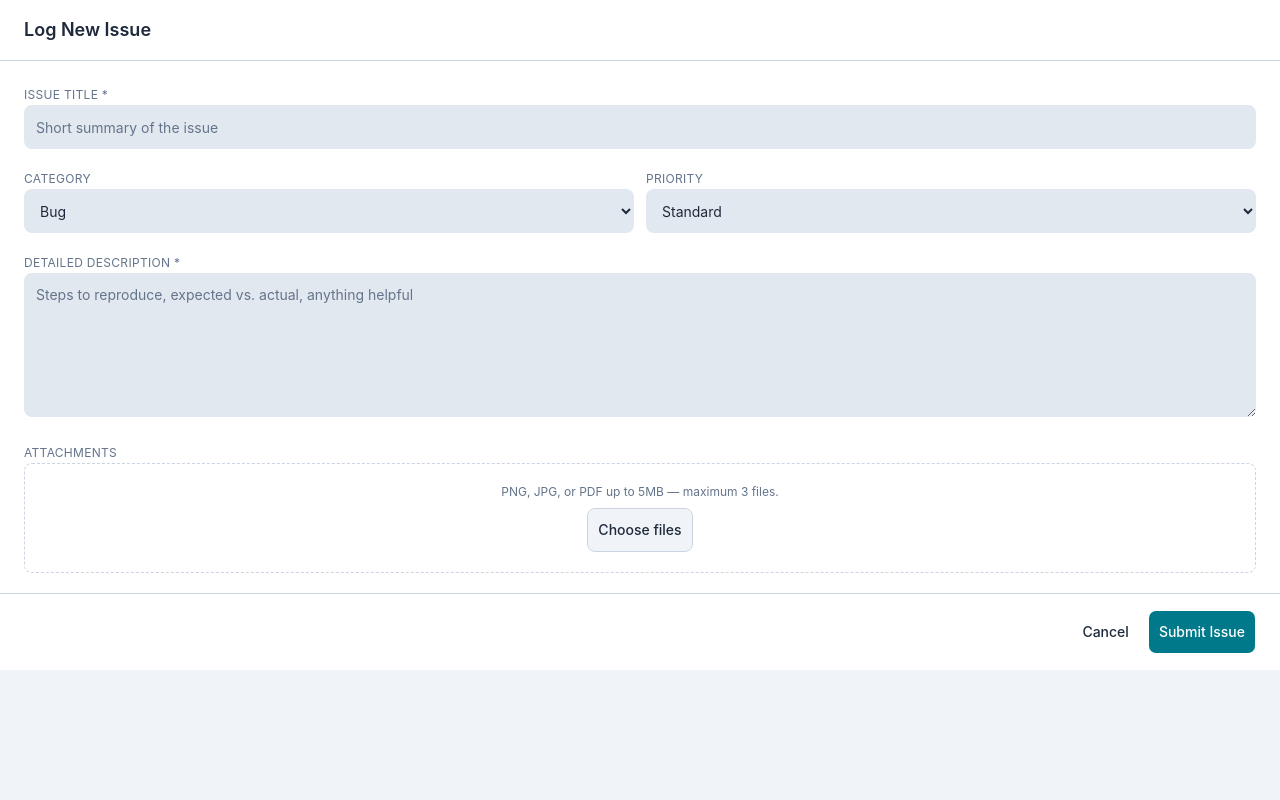
NewTicketForm › surfaces the server error from createTicket and does not reset the form
In the field with placeholder "Short summary of the issue": (640, 127) [24,105,1256,149], type "Cannot save a new lead"
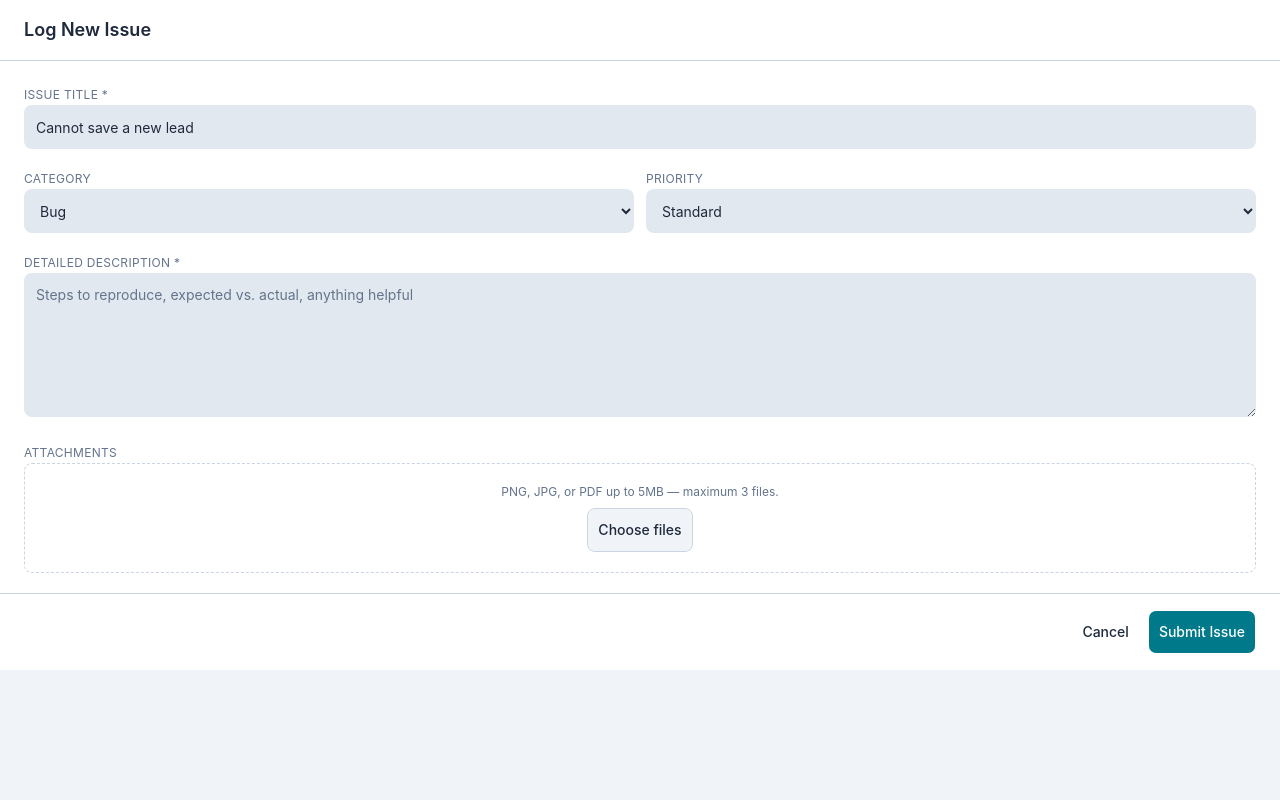
In the text box with placeholder "Steps to reproduce, expected vs. actual, anything helpful": (640, 345) [24,273,1256,417], type "Clicking Save Lead throws a 500."
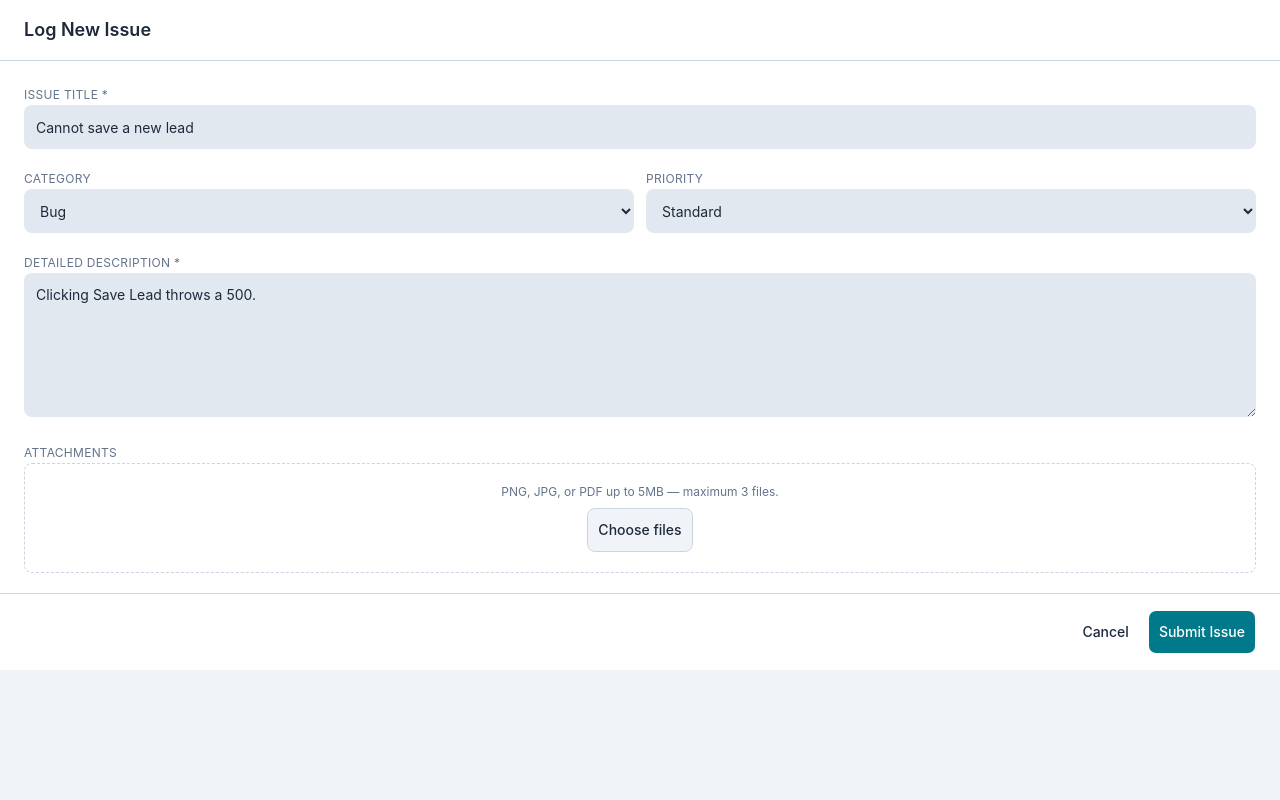
Click the button "Submit Issue": (1202, 632) [1148,610,1256,654]
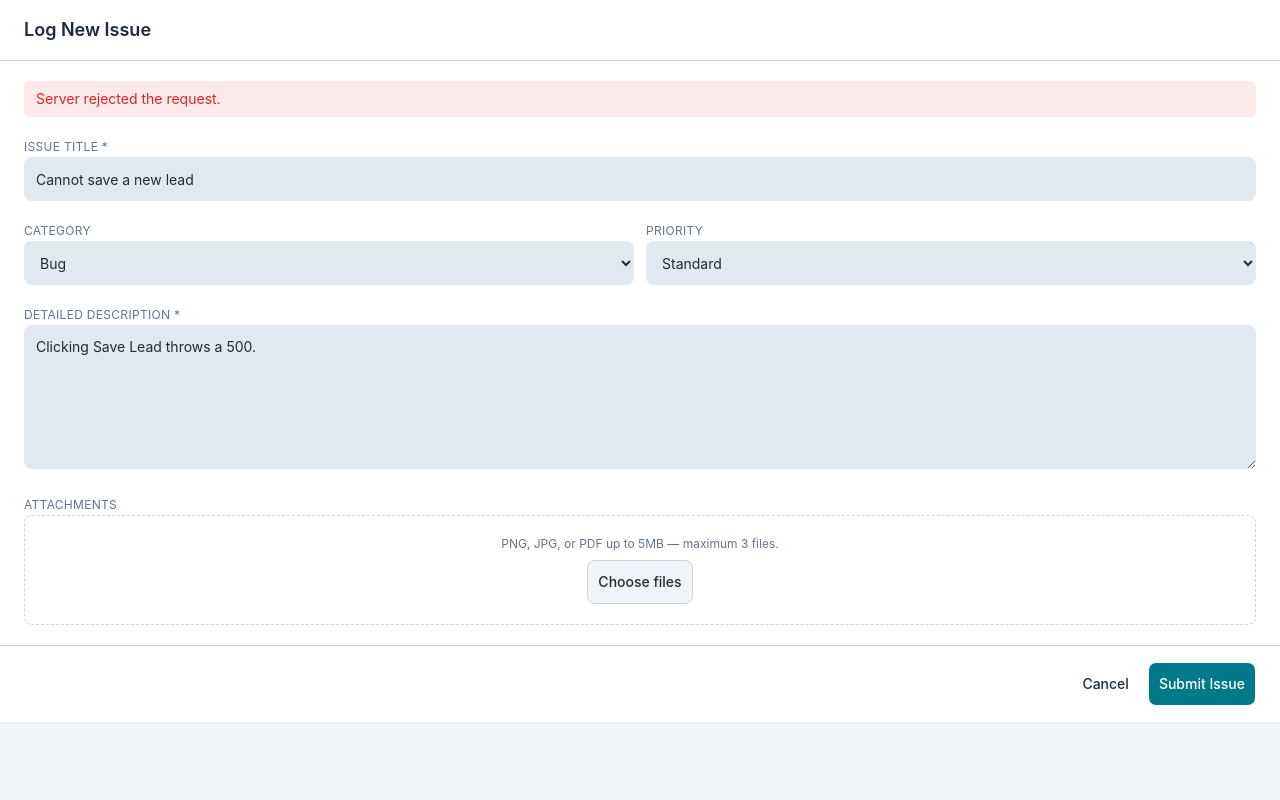
Check: the field with placeholder "Short summary of the issue" holds "Cannot save a new lead", box [24,157,1256,201]
Check: the message shows "Server rejected the request", box [36,90,221,107]
